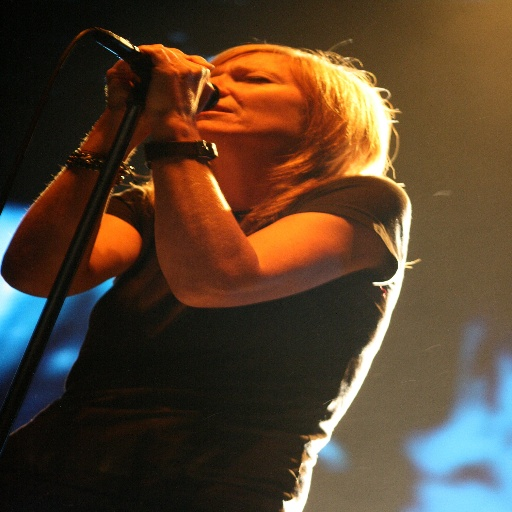hand: (132, 40, 209, 123), (104, 59, 151, 133)
